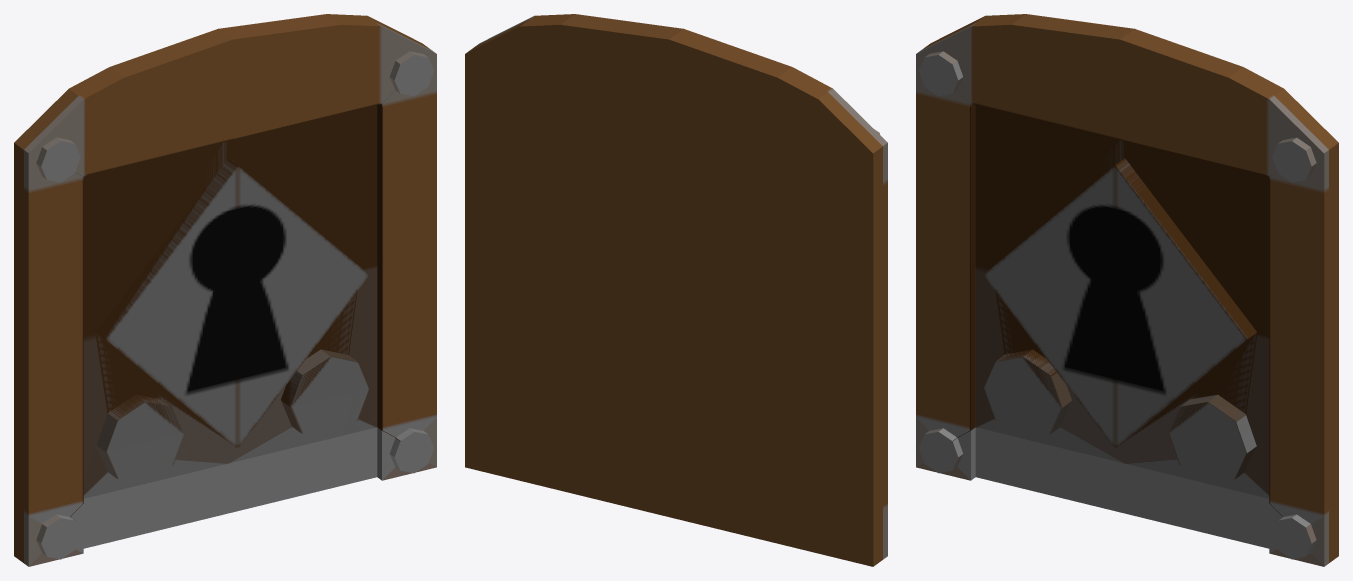
The model's file is locked door-1.fbx.
3 renders of one model, left to right at view 1: azimuth 30°, elevation 25°; view 2: azimuth 150°, elevation 25°; view 3: azimuth 330°, elevation 25°, orthographic.
Parts seen in each view (by area): view 1: pCube2; view 2: pCube2; view 3: pCube2.
Part boxes in pixels (x1,y1,x2,y2): pCube2: (14, 14, 436, 566); pCube2: (465, 14, 887, 566); pCube2: (916, 14, 1338, 566).
Size of the model in its own units: 12 by 13.42 by 1.
1 material, 1 textured.
